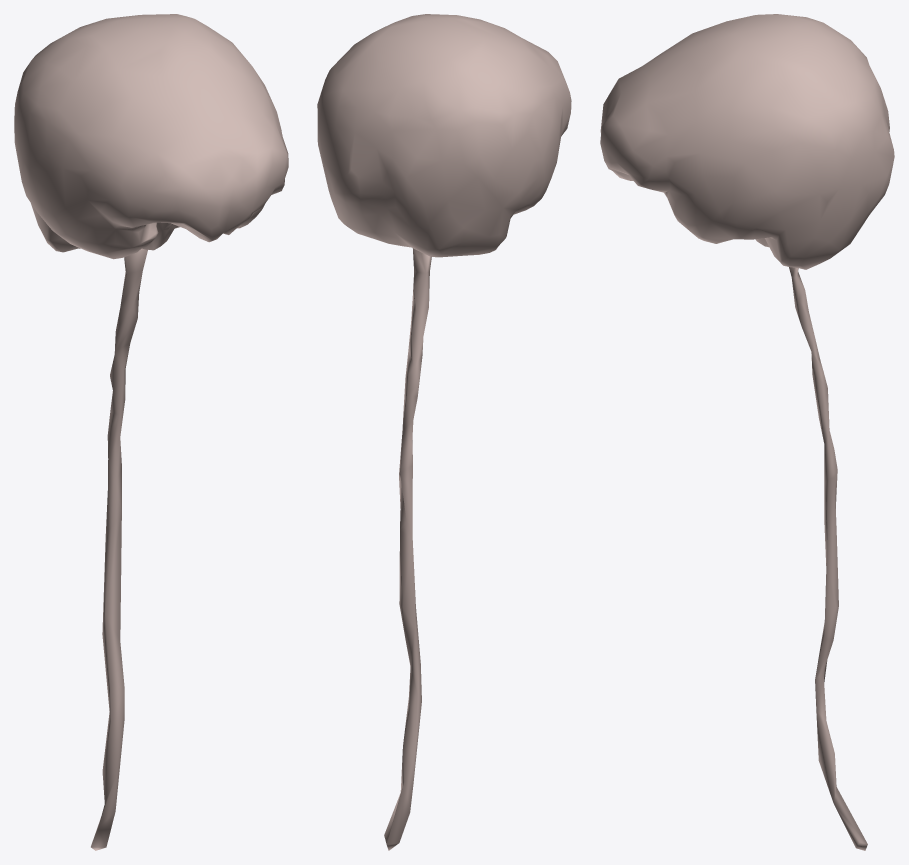
The model's file is pediatric_infant_female.nervous.LOD2.glb.
The picture shows the model from 3 angles, left to right: view 1: azimuth 30°, elevation 25°; view 2: azimuth 150°, elevation 25°; view 3: azimuth 270°, elevation 25°; orthographic projection. The views are drawn at different scales.
Visible parts, largest first — view 1: PEDIATRIC.INFANT.FEMALE.NERVOUS.BRAIN, PEDIATRIC.INFANT.FEMALE.NERVOUS.SPINAL_CORD; view 2: PEDIATRIC.INFANT.FEMALE.NERVOUS.BRAIN, PEDIATRIC.INFANT.FEMALE.NERVOUS.SPINAL_CORD; view 3: PEDIATRIC.INFANT.FEMALE.NERVOUS.BRAIN, PEDIATRIC.INFANT.FEMALE.NERVOUS.SPINAL_CORD.
Boxes of the visible parts, <box> form: PEDIATRIC.INFANT.FEMALE.NERVOUS.BRAIN: <box>14,14,288,259</box>; PEDIATRIC.INFANT.FEMALE.NERVOUS.SPINAL_CORD: <box>91,248,147,850</box>; PEDIATRIC.INFANT.FEMALE.NERVOUS.BRAIN: <box>317,14,571,257</box>; PEDIATRIC.INFANT.FEMALE.NERVOUS.SPINAL_CORD: <box>384,248,431,850</box>; PEDIATRIC.INFANT.FEMALE.NERVOUS.BRAIN: <box>600,14,894,269</box>; PEDIATRIC.INFANT.FEMALE.NERVOUS.SPINAL_CORD: <box>789,267,867,850</box>.
Size of the model in its own units: 0.1225 by 0.438 by 0.1426.
